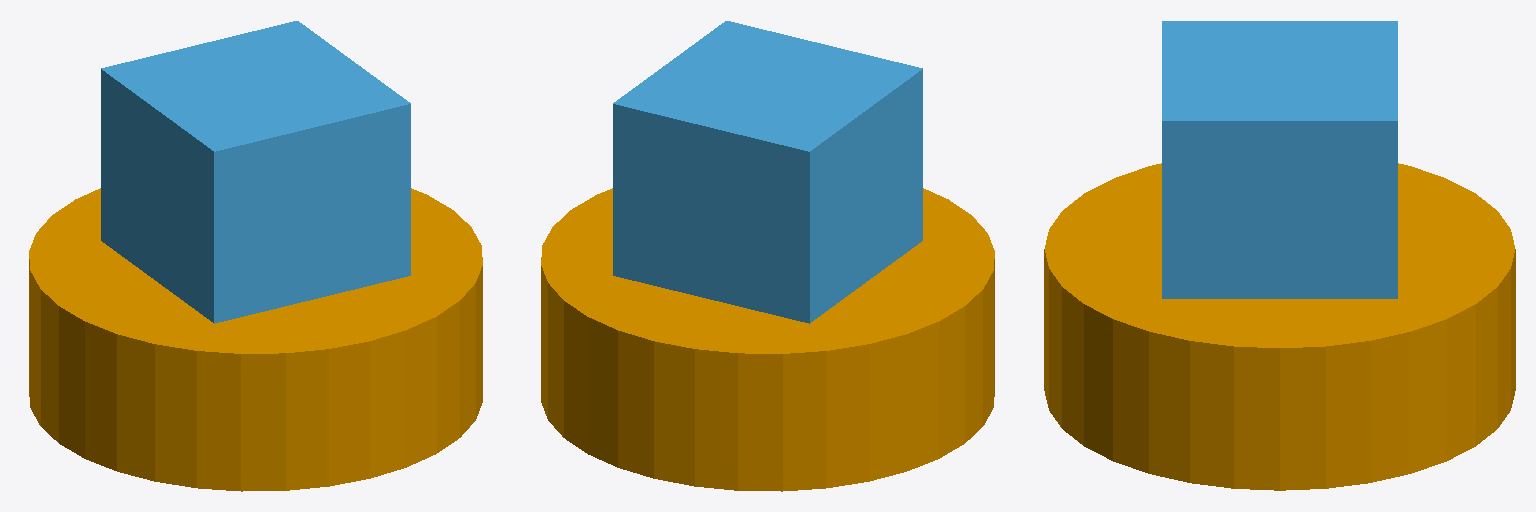
The robot description file, URDF, robot "cylinder":
<?xml version="1.0"?>
<robot name="cylinder">
  <link name="cylinder">
    <inertial>
      <mass value="1"/>
    	<inertia ixx="0.167" ixy="0" ixz="0" iyy="0.167" iyz="0" izz="0.167"/>
  	</inertial>
    <collision>
      <geometry>
        <cylinder length="0.02" radius="0.03"/>
      </geometry>
    </collision>
    <visual>
      <geometry>
        <cylinder length="0.02" radius="0.03"/>
      </geometry>
    </visual>
  </link>

  <link name="handle">

    <inertial>
      <mass value="1"/>
    	<inertia ixx="0.167" ixy="0" ixz="0" iyy="0.167" iyz="0" izz="0.167"/>
  	</inertial>

    <collision>
      <geometry>
        <box size="0.03 0.03 0.025"/>
      </geometry>
	<origin rpy="0 0 0" xyz="0 0 0.0225"/>
    </collision>
    <visual>
      <geometry>
        <box size="0.03 0.03 0.025"/>
      </geometry>
	<origin rpy="0 0 0" xyz="0 0 0.0225"/>
    </visual>
  </link>

  <joint name="cylinder_to_handle" type="fixed">
    <parent link="cylinder"/>
    <child link="handle"/>
  </joint>

</robot>

--- What the picture shows (computed from the rendered views, not written in the file) ---
The picture shows the robot from 3 angles, left to right: view 1: azimuth 30°, elevation 25°; view 2: azimuth 150°, elevation 25°; view 3: azimuth 270°, elevation 25°; orthographic projection.
Robot: cylinder — 2 links, 1 joints (1 fixed); root link cylinder; default pose: all joints at 0.
Visible links, largest first — view 1: cylinder, handle; view 2: cylinder, handle; view 3: cylinder, handle.
Boxes of the visible links, left/top/right/bottom form: cylinder: left=29, top=188, right=482, bottom=491; handle: left=101, top=21, right=410, bottom=323; cylinder: left=541, top=188, right=994, bottom=491; handle: left=613, top=21, right=922, bottom=323; cylinder: left=1044, top=163, right=1515, bottom=490; handle: left=1162, top=21, right=1397, bottom=298.
Bounding box of the posed robot: 0.06 × 0.06 × 0.045 m (x, y, z).
Geometry: primitives only (box / cylinder / sphere), no mesh files.